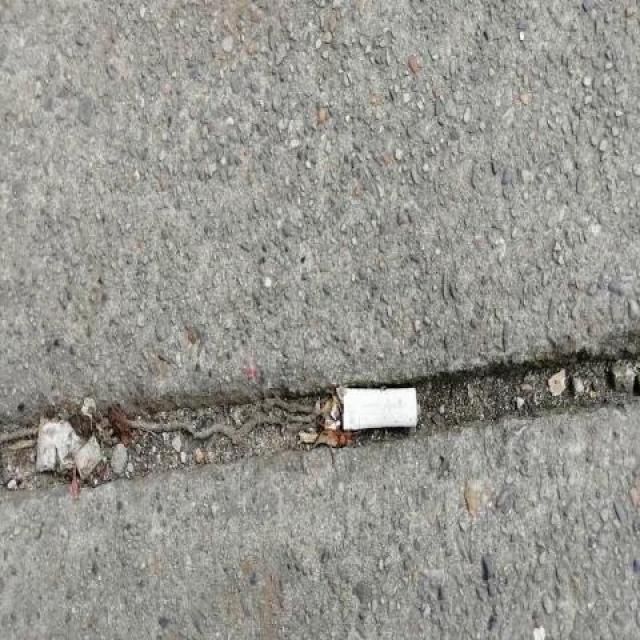non-organic waste: (334, 381, 421, 435)
